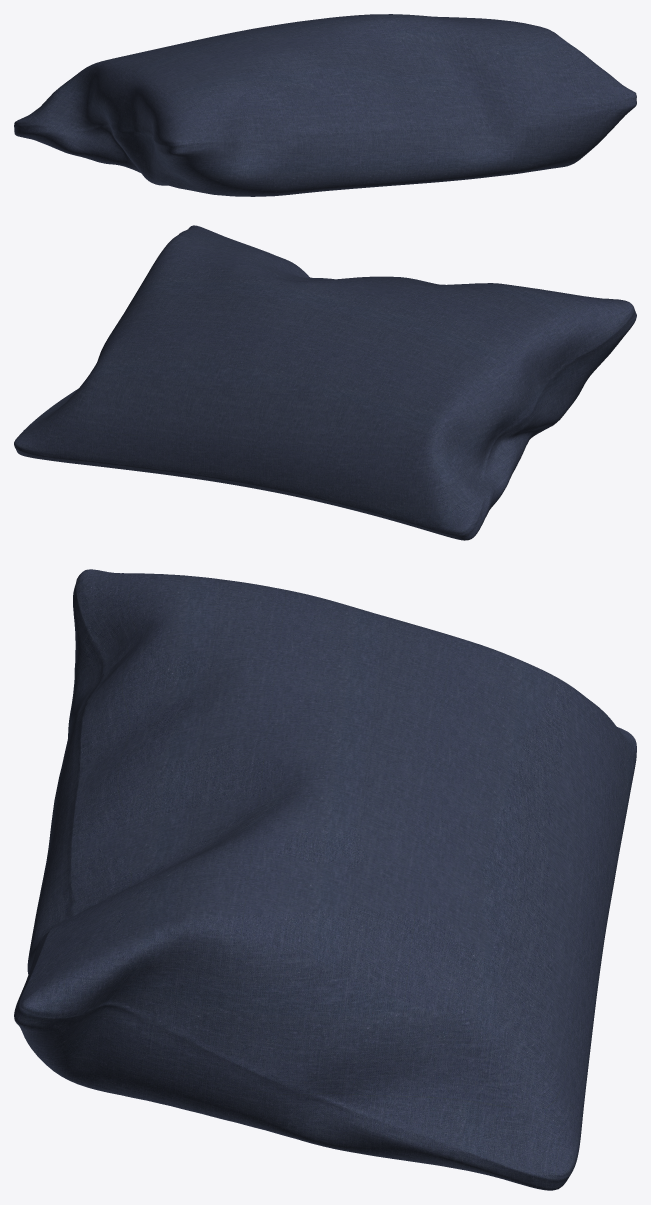
Rendered from pillow1.fbx.
The picture shows the model from 3 angles, top to bottom: view 1: azimuth 30°, elevation 25°; view 2: azimuth 150°, elevation 25°; view 3: azimuth 270°, elevation 25°; orthographic projection. The views are drawn at different scales.
Visible parts, largest first — view 1: Pillow006; view 2: Pillow006; view 3: Pillow006.
Part boxes in pixels (x1,y1,x2,y2): Pillow006: (14,14,636,196); Pillow006: (14,225,636,540); Pillow006: (14,569,636,1190).
Bounding box in the file's own units: 62.63 × 21.76 × 43.65.
